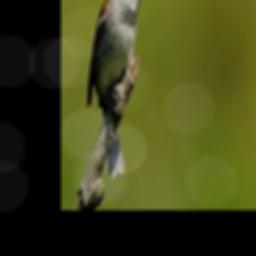Sparrow: (86, 0, 149, 178)
